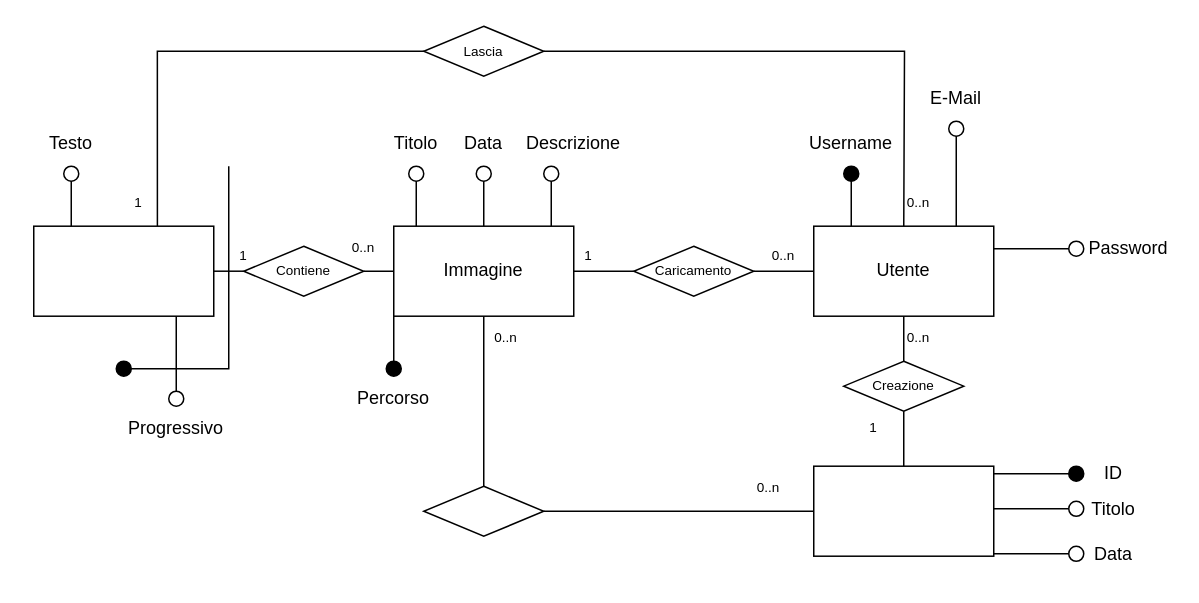
The diagram is 1199 pixels wide and 603 high, and some of its shapes have lost their labels. The box of each missing label's shape, as (x1, y1, x2, y2) in pixels:
Album: (812, 465, 994, 556)
Commento: (32, 225, 214, 316)
Contenimento: (422, 485, 544, 536)
